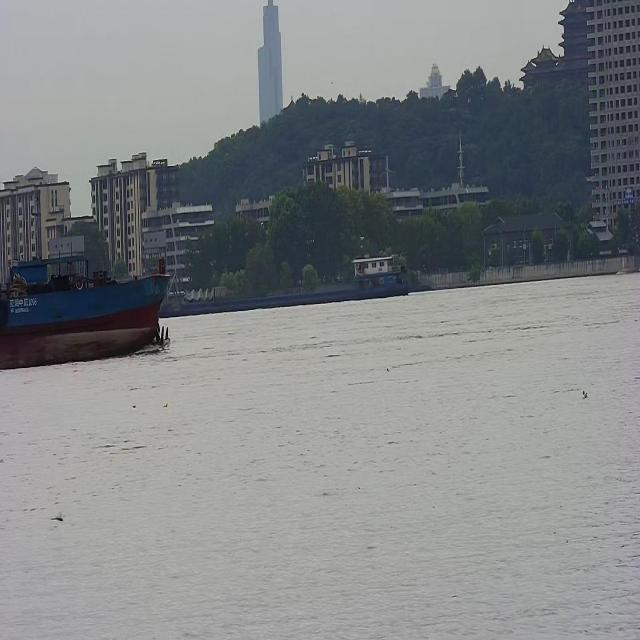CIV_Ship: (0, 251, 170, 364), (160, 262, 424, 324)
